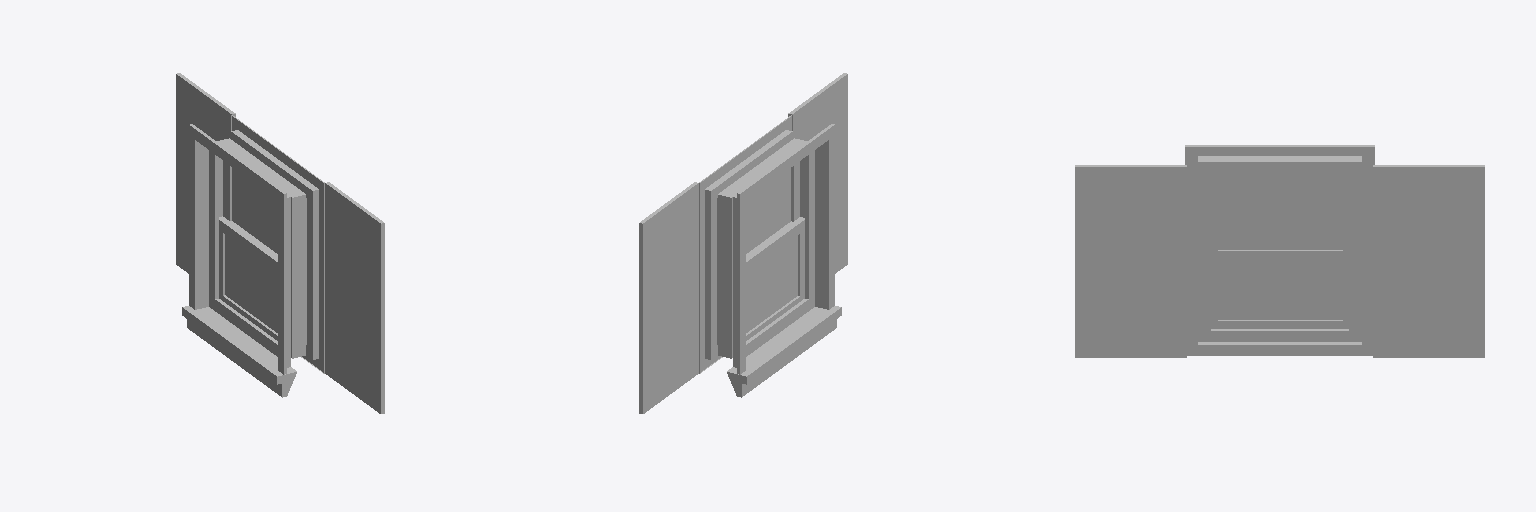
The model's file is small_window.obj.
The picture shows the model from 3 angles: view 1: azimuth 30°, elevation 25°; view 2: azimuth 150°, elevation 25°; view 3: azimuth 270°, elevation 25°; orthographic projection.
Visible parts, largest first — view 1: SM_Window_small, SM_Window_small_Leaf_glass, SM_Window_small_glass, SM_Window_small_Leaf; view 2: SM_Window_small, SM_Window_small_Leaf_glass, SM_Window_small_glass, SM_Window_small_Leaf; view 3: SM_Window_small, SM_Window_small_glass, SM_Window_small_Leaf_glass, SM_Window_small_Leaf.
Part boxes in pixels (x1,y1,x2,y2): SM_Window_small: (176, 73, 384, 413); SM_Window_small_Leaf_glass: (225, 235, 277, 332); SM_Window_small_glass: (232, 167, 277, 253); SM_Window_small_Leaf: (219, 216, 277, 340); SM_Window_small: (639, 73, 847, 413); SM_Window_small_Leaf_glass: (746, 235, 797, 332); SM_Window_small_glass: (746, 168, 790, 253); SM_Window_small_Leaf: (746, 217, 804, 340); SM_Window_small: (1075, 145, 1484, 357); SM_Window_small_glass: (1218, 188, 1342, 249); SM_Window_small_Leaf_glass: (1218, 262, 1342, 319); SM_Window_small_Leaf: (1211, 262, 1348, 328).
Bounding box in the file's own units: 0.2738 × 1.01 × 1.84.